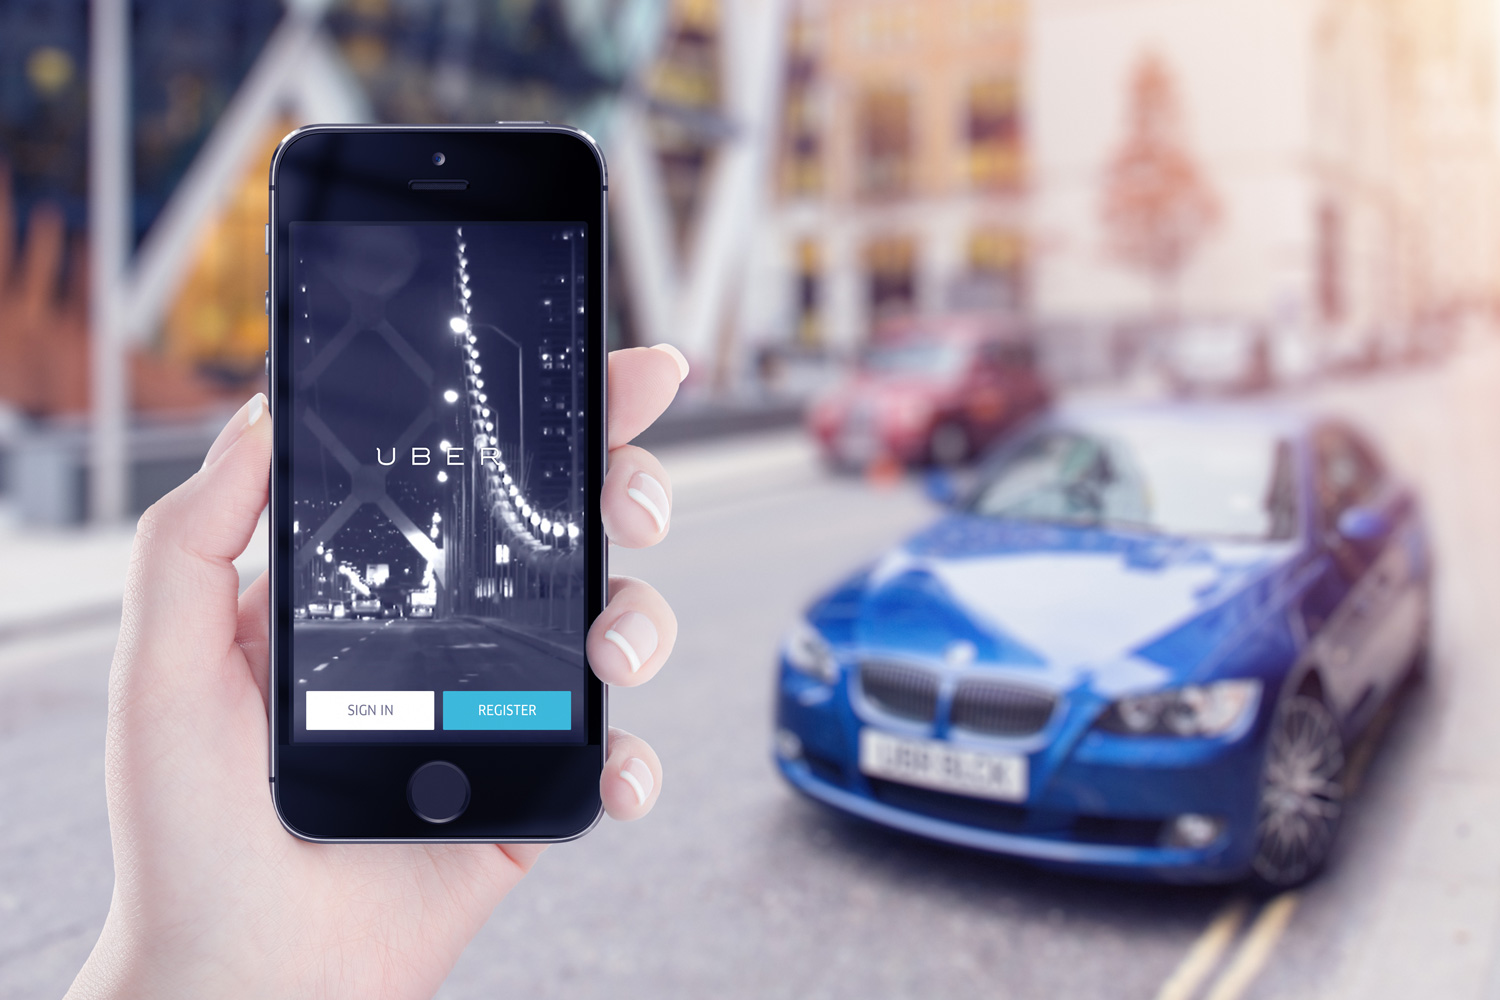smartphone: (266, 122, 610, 846)
